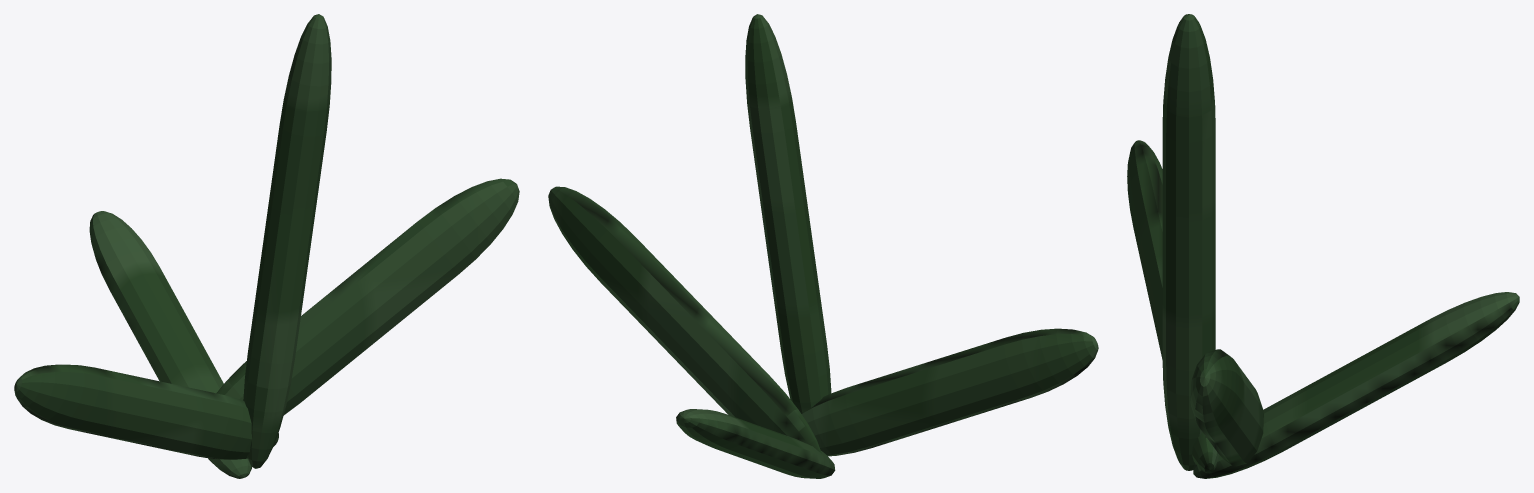
Rendered from hushbloom_body.obj.
3 views of the same model, side by side, from view 1: azimuth 30°, elevation 25°; view 2: azimuth 150°, elevation 25°; view 3: azimuth 270°, elevation 25° (orthographic). The views are drawn at different scales.
Bounding box in the file's own units: 0.904 × 0.7285 × 0.5163.
Materials: 1 (1 with a texture image).
